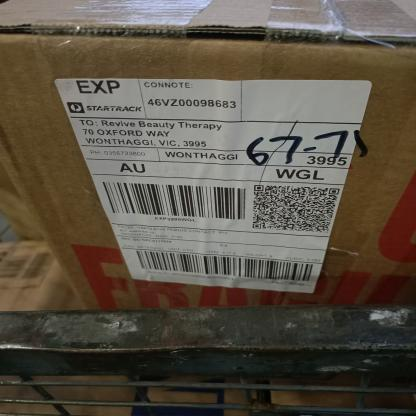label: (55, 72, 374, 305)
package: (0, 0, 416, 343)
